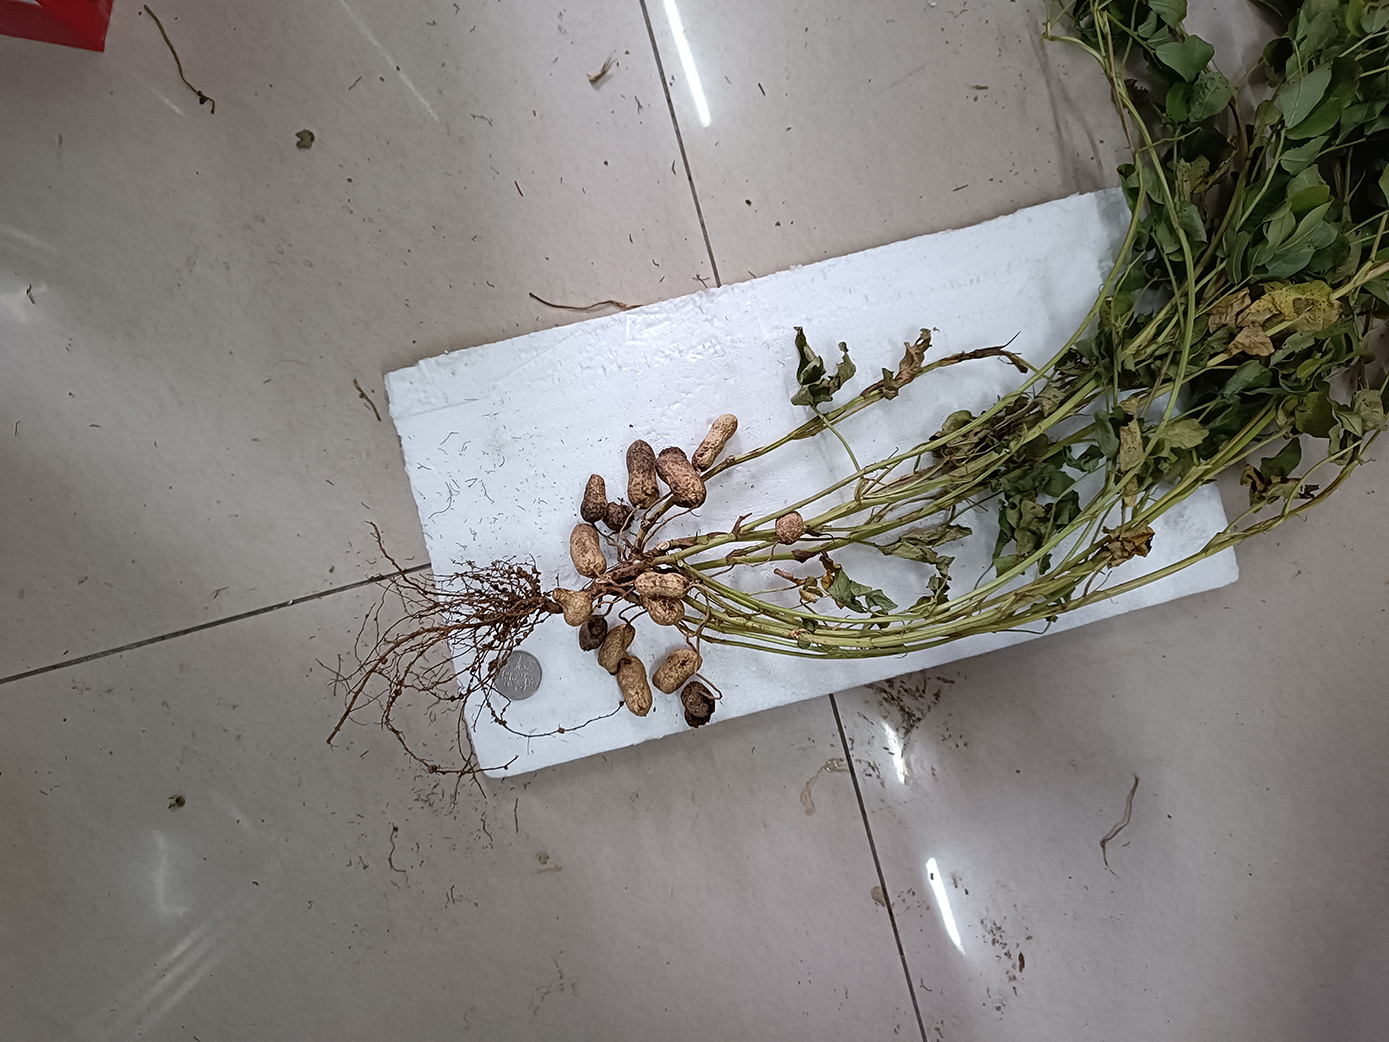h: (693, 413, 737, 468), (653, 648, 702, 693), (617, 655, 652, 715), (598, 623, 635, 674), (570, 523, 605, 574), (552, 587, 592, 626), (634, 570, 687, 600), (639, 597, 686, 626), (775, 511, 805, 546)
l: (657, 445, 705, 509), (627, 440, 659, 508), (680, 680, 713, 730), (581, 473, 605, 522), (579, 614, 609, 653), (605, 500, 627, 531)
